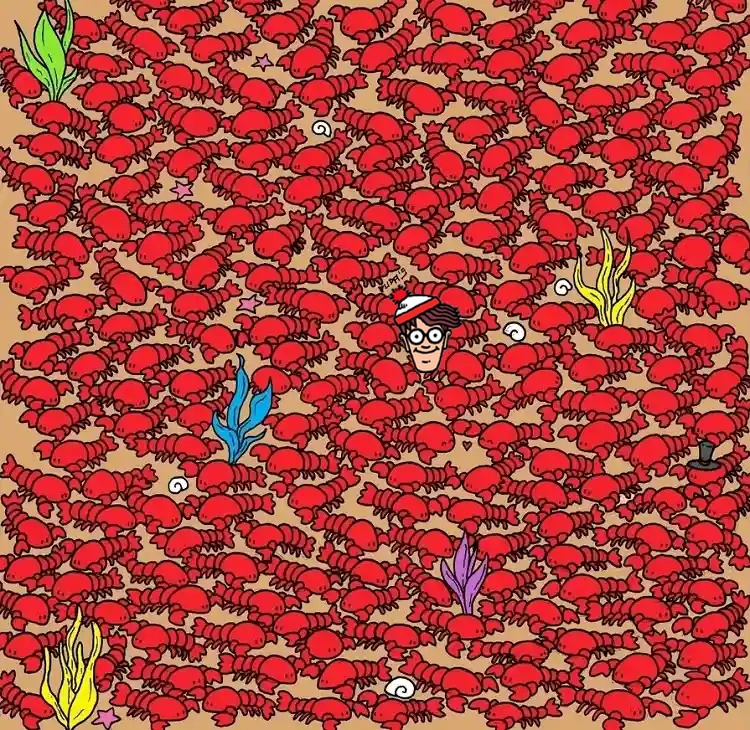waldo: (389, 284, 463, 373)
